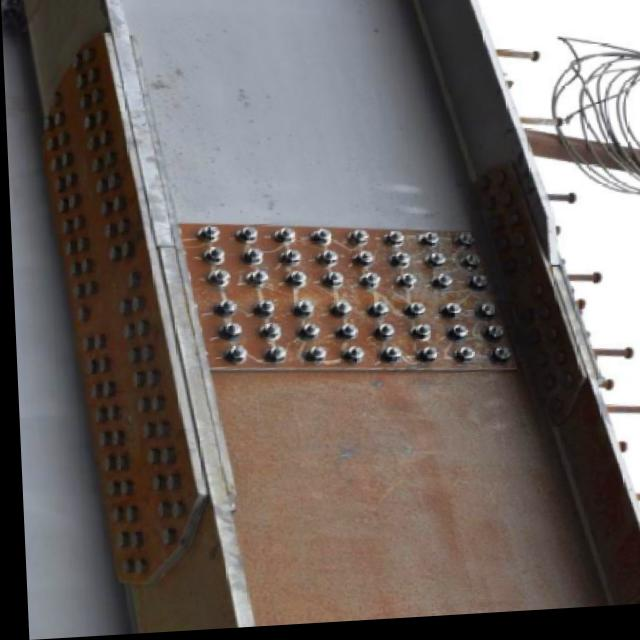Regular bolt: (250, 325, 280, 347), (197, 247, 226, 268), (192, 224, 218, 247), (246, 302, 273, 324), (283, 275, 306, 300), (486, 350, 513, 371), (267, 230, 295, 250), (231, 225, 255, 248), (301, 348, 326, 370), (209, 300, 234, 322), (202, 273, 229, 292), (262, 349, 285, 371), (309, 230, 331, 252), (450, 348, 473, 369), (333, 327, 356, 348), (327, 304, 348, 327), (313, 253, 336, 274), (298, 326, 321, 347), (320, 278, 344, 298), (413, 350, 436, 370), (242, 273, 265, 293), (405, 328, 429, 347), (366, 304, 391, 322), (343, 232, 365, 252), (289, 304, 312, 323), (214, 325, 238, 343), (413, 238, 438, 255), (276, 254, 301, 271), (394, 278, 415, 298), (379, 347, 401, 366), (238, 253, 260, 272), (385, 256, 409, 273), (221, 349, 245, 366), (442, 329, 467, 345), (401, 307, 423, 325), (451, 236, 470, 256), (383, 233, 402, 253), (342, 348, 361, 368), (357, 277, 379, 294), (352, 256, 374, 273), (474, 308, 494, 326), (465, 278, 485, 296), (481, 329, 502, 346), (455, 261, 477, 276), (423, 257, 446, 270), (440, 309, 459, 324), (372, 329, 390, 344), (433, 280, 452, 292)
